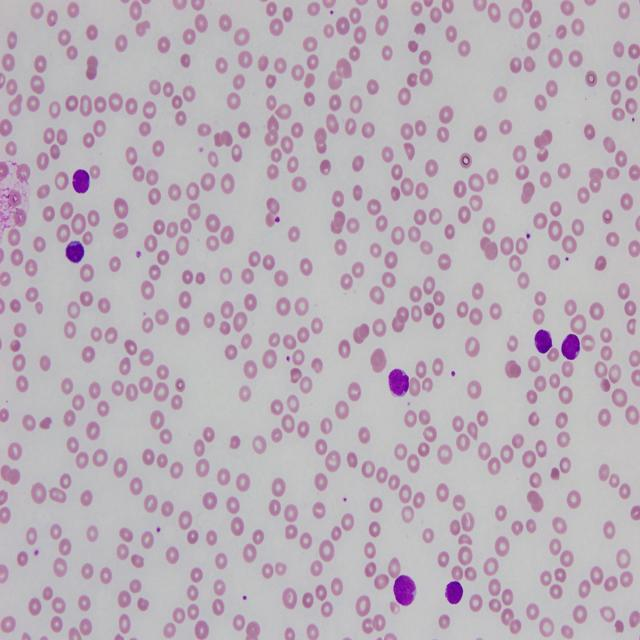cell: (394, 575, 416, 607), (561, 333, 580, 360), (72, 170, 90, 193), (65, 242, 84, 263), (535, 330, 552, 353)
